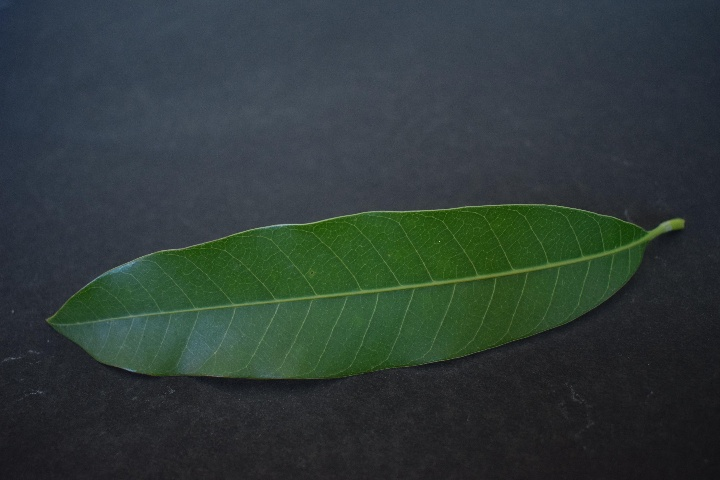healthy: (65, 202, 641, 376)
